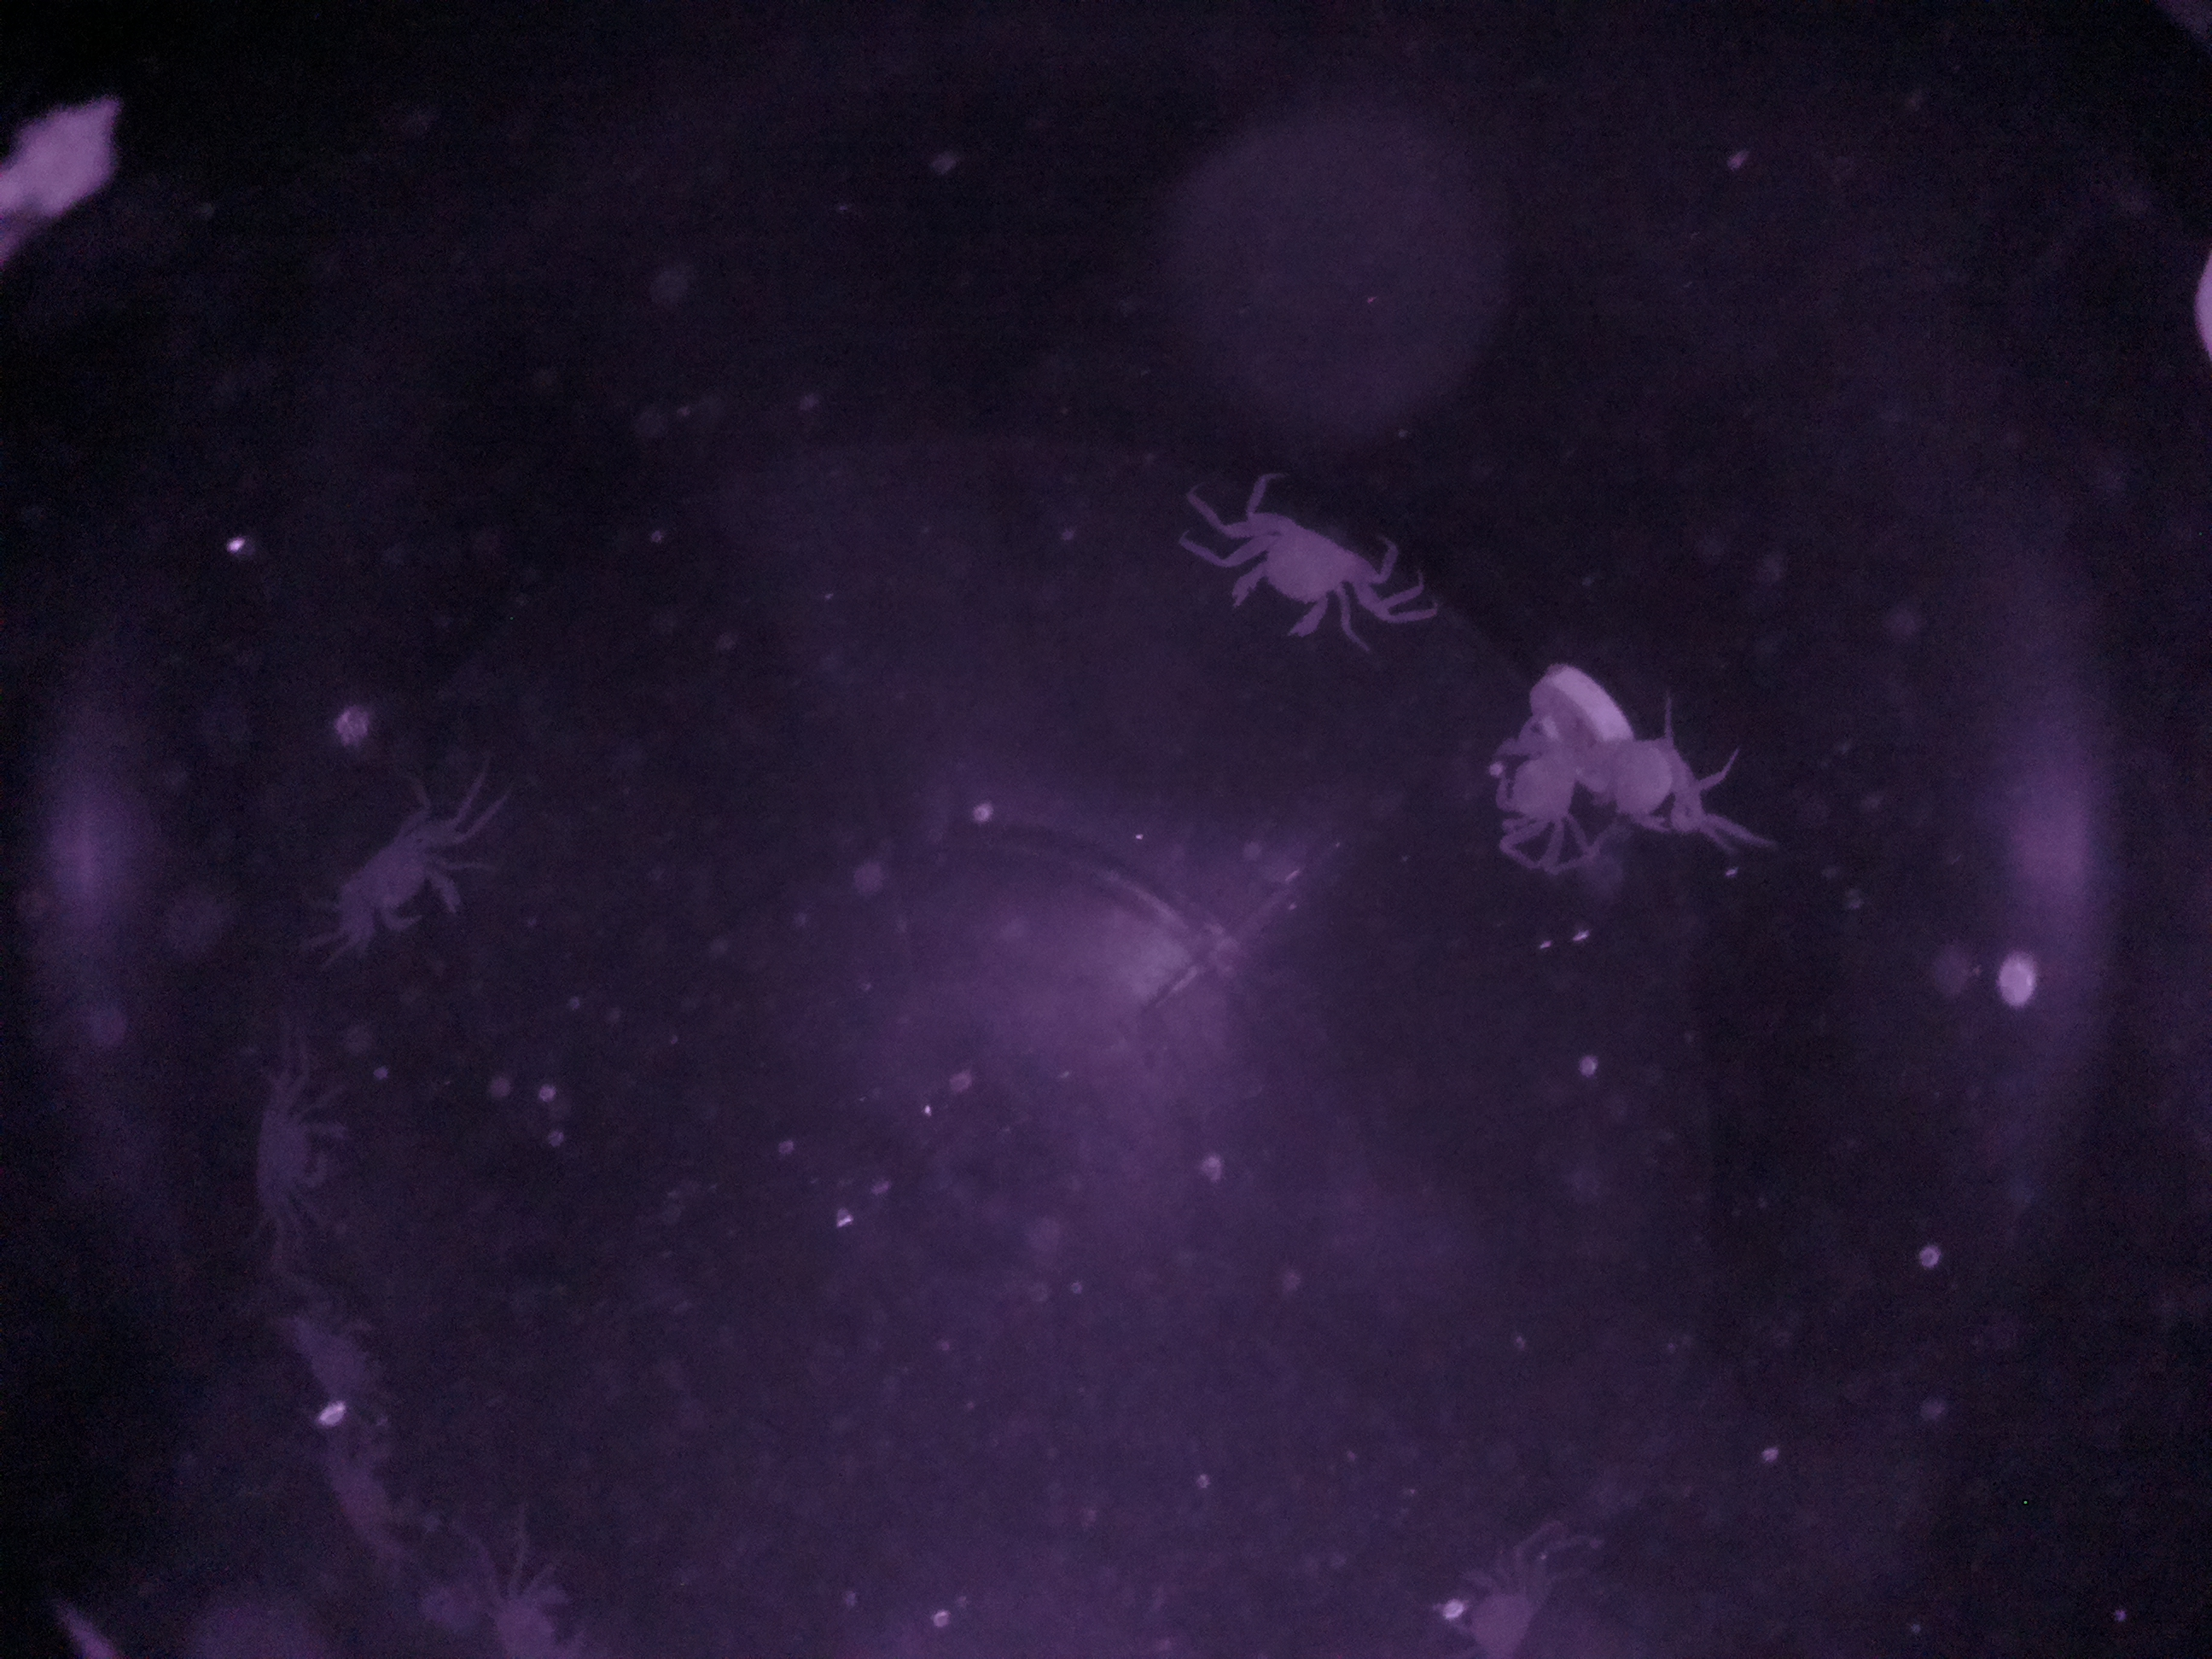Crab: (1193, 476, 1409, 669), (275, 793, 510, 962)
